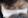with_mask: (1, 1, 28, 18)
